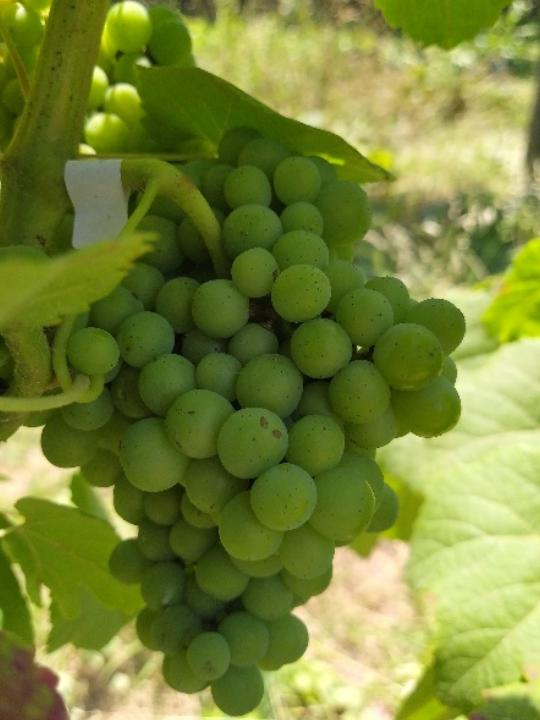grape: (24, 128, 467, 716)
